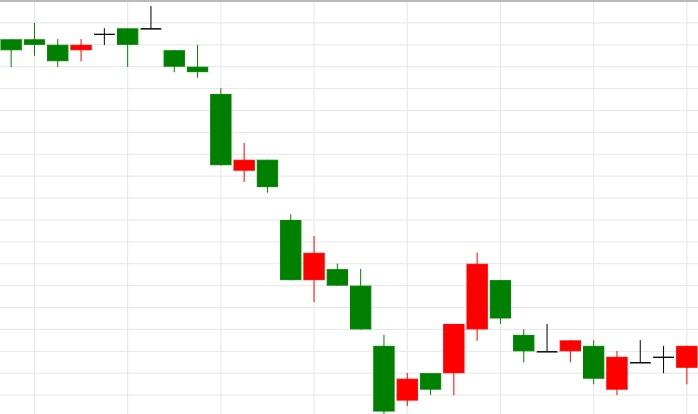morning_star_rise: (466, 252, 582, 362)
